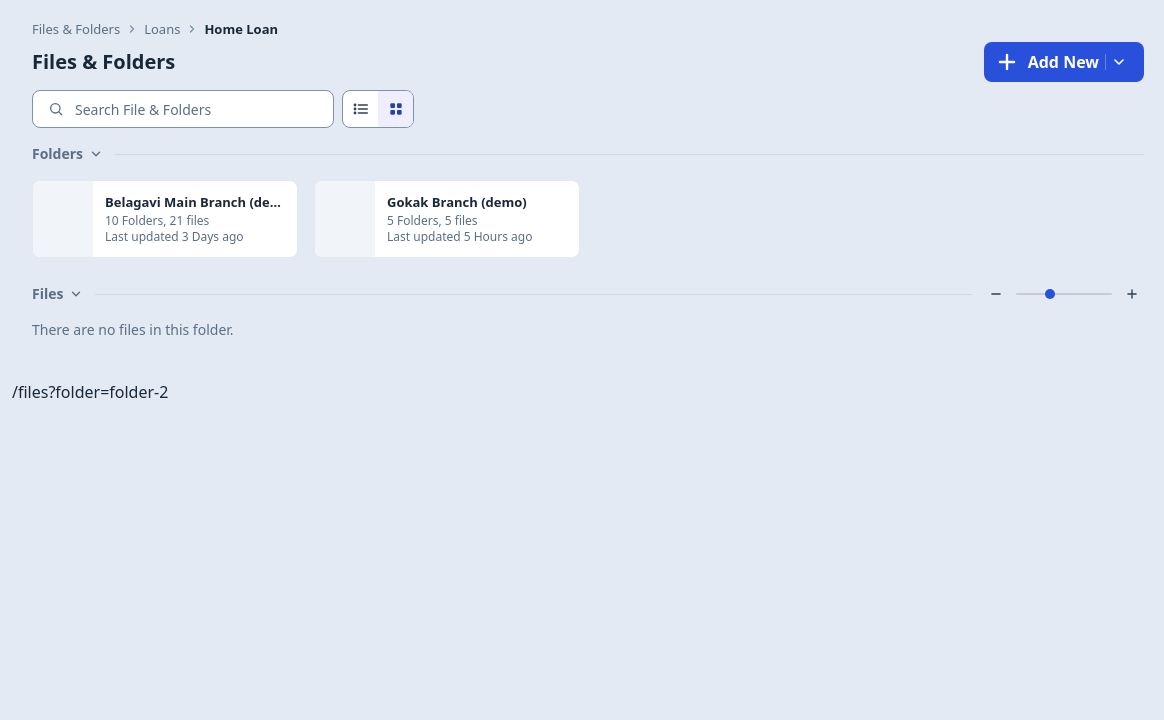
it: opening a folder › goes back up when a part of the breadcrumb is chosen
Click the link "Loans": click(162, 29) x1=144 y1=20 x2=180 y2=38
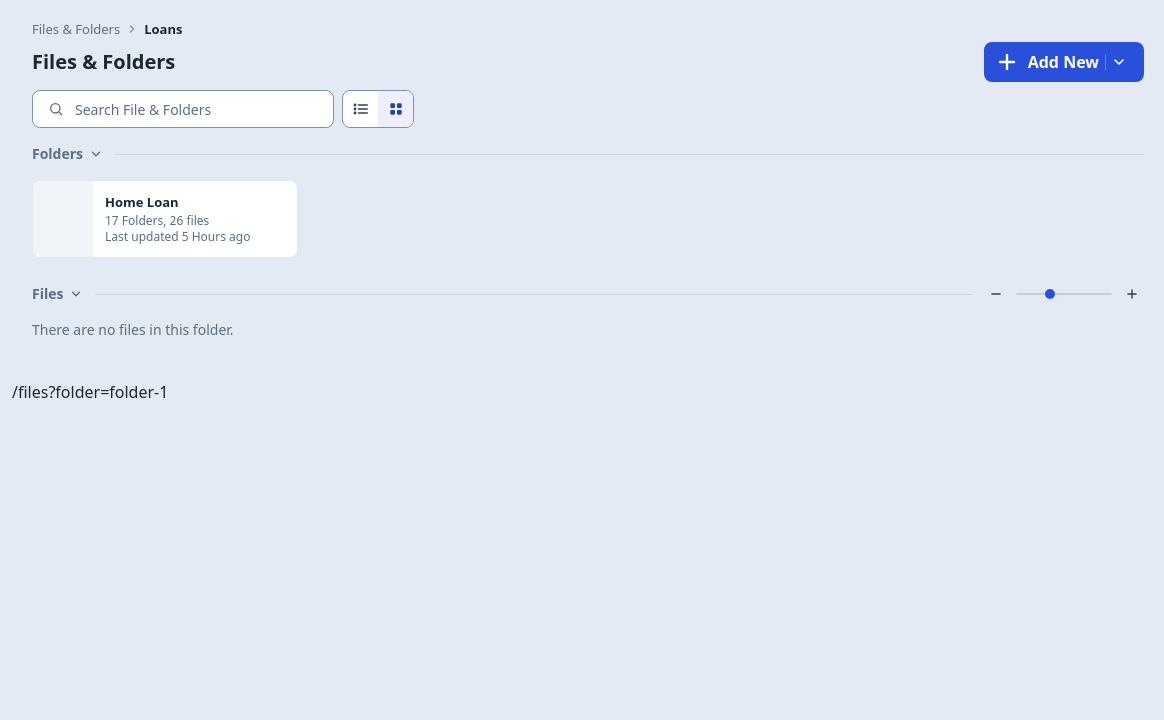
Click the link "Files & Folders": click(76, 29) x1=32 y1=20 x2=120 y2=38
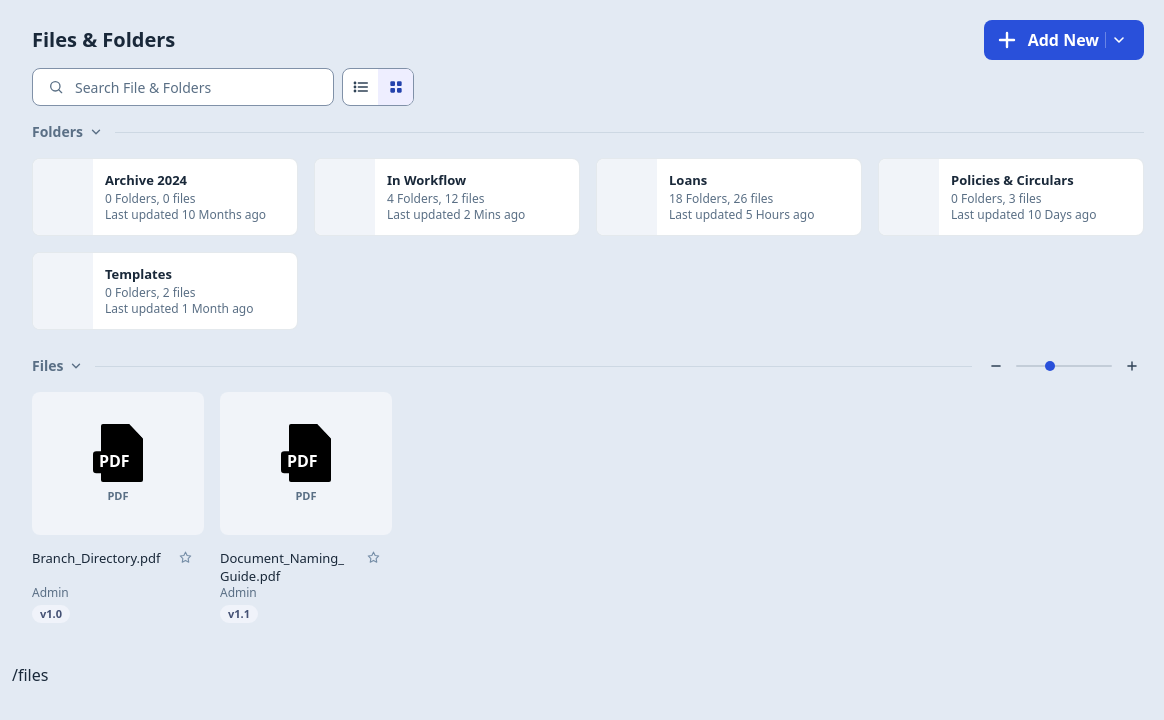
Expected: the text with test id "where" reads "/files", x1=12 y1=664 x2=48 y2=686
Expected: the navigation bar "Breadcrumb" is gone
